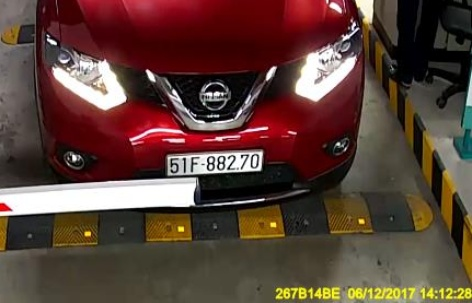plate: (160, 147, 267, 175)
